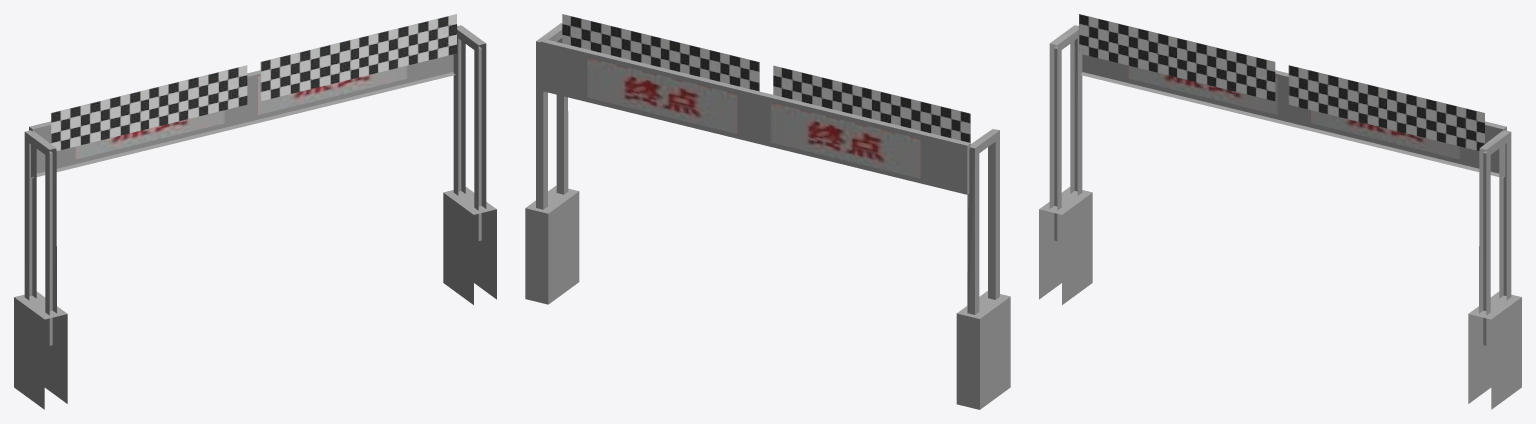
Rendered from SR_Prop_1.FBX.
The picture shows the model from 3 angles, left to right: view 1: azimuth 30°, elevation 25°; view 2: azimuth 150°, elevation 25°; view 3: azimuth 330°, elevation 25°; orthographic projection.
Parts seen in each view (by area): view 1: SR_Prop_1; view 2: SR_Prop_1; view 3: SR_Prop_1.
Boxes of the visible parts, box(x1,y1,x2,y2) form: SR_Prop_1: box(14, 14, 496, 409); SR_Prop_1: box(525, 14, 1010, 409); SR_Prop_1: box(1039, 14, 1521, 409).
Bounding box in the file's own units: 9.87 × 5.82 × 1.16.
